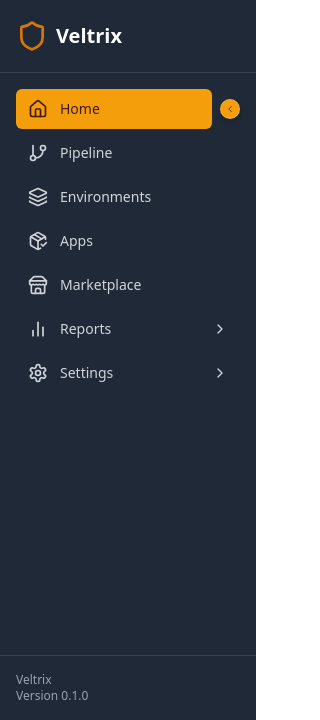
Test: Sidebar - Access Control nav item (Wave C, fail-closed) › FAILS CLOSED: hides Access Control when there is no auth token (no permission source)
The image size is (320, 720).
Click the button "Settings": (128, 373) 16,353 -> 240,393
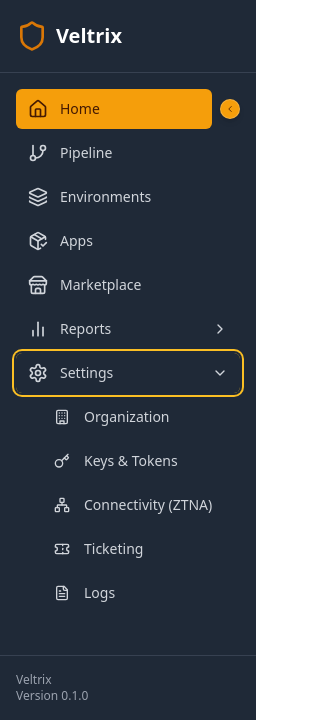
Expected: the link "Organization" is shown, 54,407 -> 170,426
